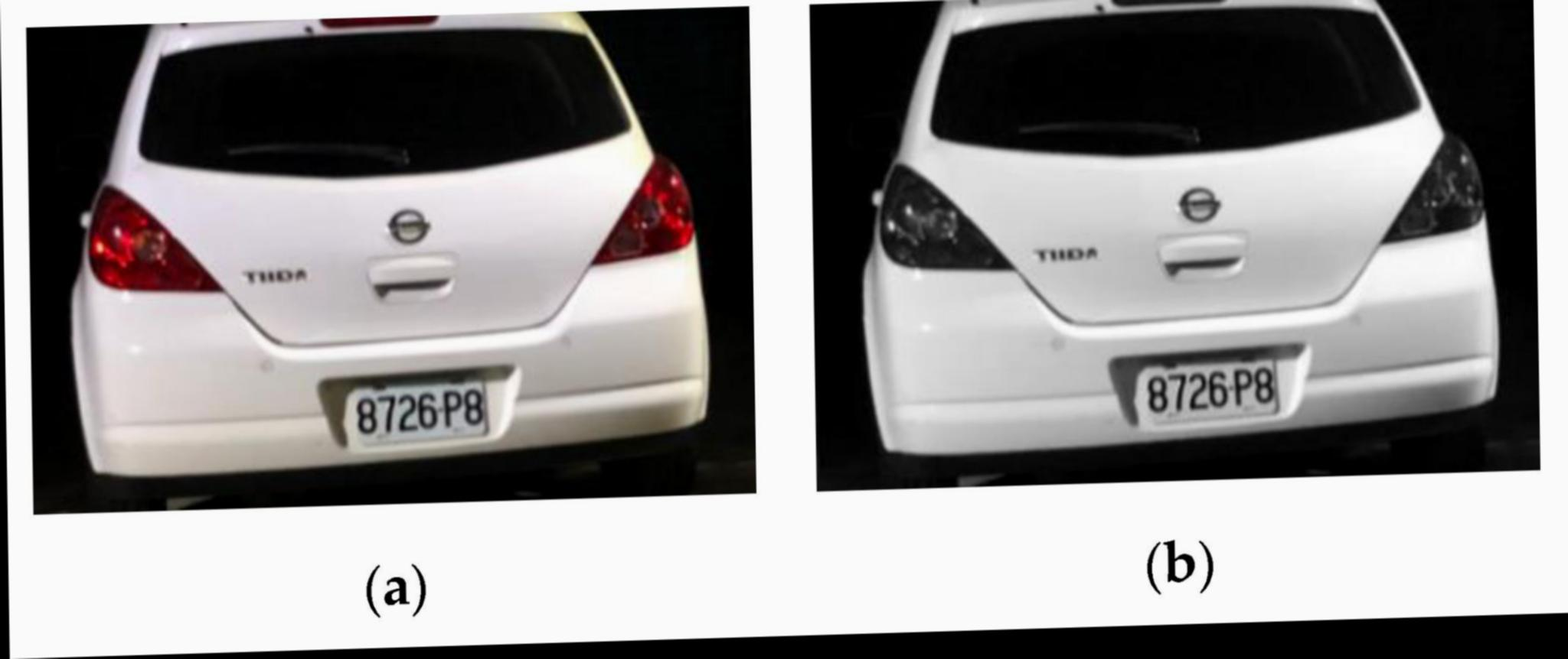License_Plate: (1125, 346, 1293, 436), (340, 369, 501, 461)
